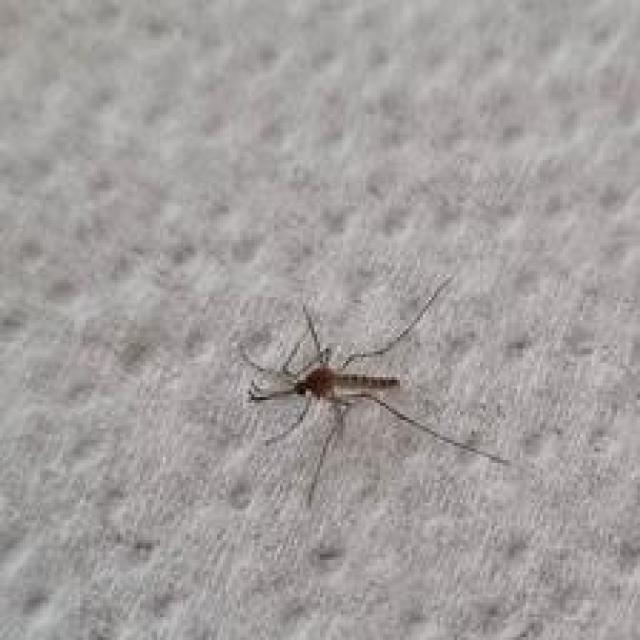Culex: (236, 273, 510, 507)
